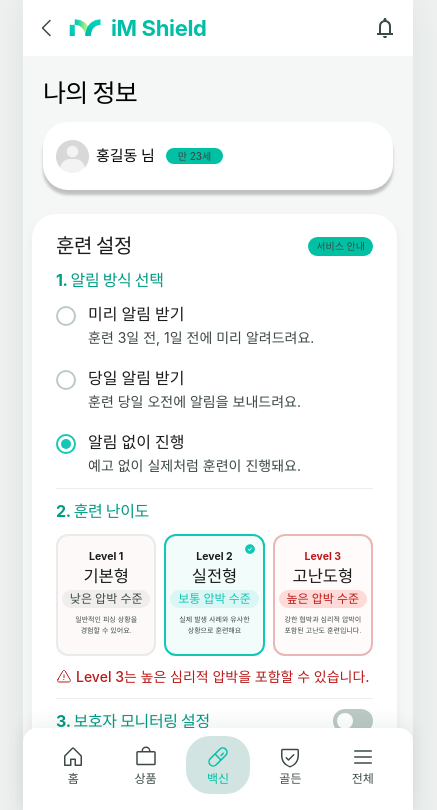
Test: challenge onboarding routes › moves back from /events/phishing-challenge/setup to its logical parent
Step 1. Click the button named "이전 화면" → (47, 28), box top-left (27, 8), bottom-right (67, 48)
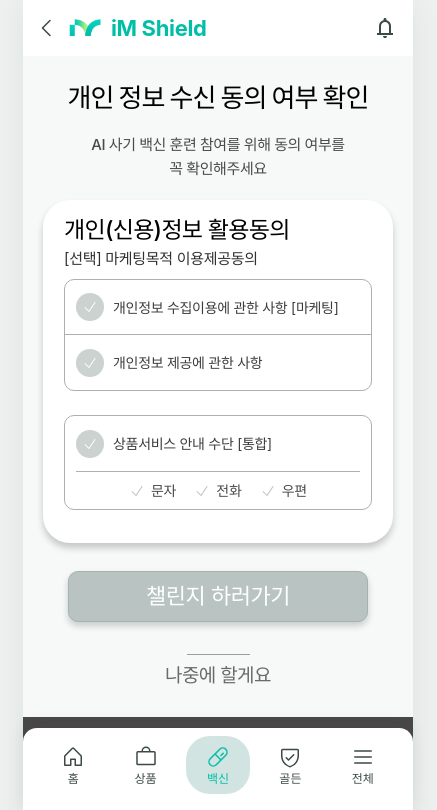
Expected: the heading "개인 정보 수신 동의 여부 확인" is shown, top-left (43, 81), bottom-right (393, 115)
